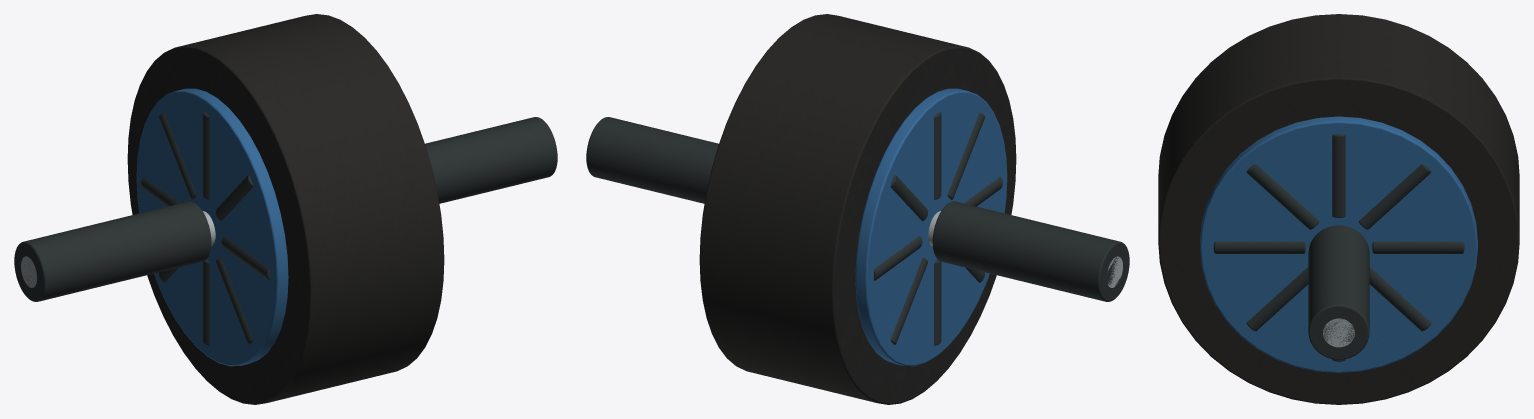
File: wheel-big.glb
3 renders of one model, left to right at view 1: azimuth 30°, elevation 25°; view 2: azimuth 150°, elevation 25°; view 3: azimuth 270°, elevation 25°, orthographic.
Parts seen in each view (by area): view 1: Exercise wheel tire, Blue exercise-wheel hub, Exercise-wheel foam grip, Exercise-wheel foam grip.001, Wheel radial spoke.002, Wheel radial spoke.005, Wheel radial spoke.001, Wheel radial spoke.006, Wheel radial spoke.004, Wheel radial spoke.003, Axle through wheel; view 2: Exercise wheel tire, Blue exercise-wheel hub, Exercise-wheel foam grip, Exercise-wheel foam grip.001, Wheel radial spoke.002, Wheel radial spoke.007, Wheel radial spoke.003, Wheel radial spoke.006, Wheel radial spoke, Wheel radial spoke.001, Axle through wheel; view 3: Exercise wheel tire, Blue exercise-wheel hub.001, Exercise-wheel foam grip.001, Wheel radial spoke.008, Wheel radial spoke.012, Wheel radial spoke.009, Wheel radial spoke.011, Wheel radial spoke.010, Wheel radial spoke.013, Wheel radial spoke.015, Axle through wheel.
Boxes of the visible parts, x1=… form: Exercise wheel tire: x1=127, y1=14, x2=444, y2=404; Blue exercise-wheel hub: x1=136, y1=88, x2=288, y2=366; Exercise-wheel foam grip: x1=14, y1=201, x2=211, y2=301; Exercise-wheel foam grip.001: x1=425, y1=117, x2=557, y2=203; Wheel radial spoke.002: x1=202, y1=112, x2=209, y2=199; Wheel radial spoke.005: x1=216, y1=257, x2=253, y2=344; Wheel radial spoke.001: x1=159, y1=112, x2=196, y2=199; Wheel radial spoke.006: x1=202, y1=259, x2=209, y2=345; Wheel radial spoke.004: x1=221, y1=236, x2=269, y2=280; Wheel radial spoke.003: x1=216, y1=175, x2=253, y2=221; Axle through wheel: x1=21, y1=211, x2=215, y2=287; Exercise wheel tire: x1=699, y1=14, x2=1016, y2=404; Blue exercise-wheel hub: x1=855, y1=88, x2=1007, y2=366; Exercise-wheel foam grip: x1=932, y1=201, x2=1129, y2=301; Exercise-wheel foam grip.001: x1=586, y1=117, x2=718, y2=203; Wheel radial spoke.002: x1=934, y1=112, x2=941, y2=199; Wheel radial spoke.007: x1=890, y1=257, x2=927, y2=344; Wheel radial spoke.003: x1=947, y1=112, x2=984, y2=199; Wheel radial spoke.006: x1=934, y1=259, x2=941, y2=345; Wheel radial spoke: x1=874, y1=236, x2=922, y2=280; Wheel radial spoke.001: x1=890, y1=175, x2=927, y2=221; Axle through wheel: x1=928, y1=211, x2=1122, y2=287; Exercise wheel tire: x1=1158, y1=14, x2=1519, y2=404; Blue exercise-wheel hub.001: x1=1200, y1=116, x2=1477, y2=372; Exercise-wheel foam grip.001: x1=1308, y1=225, x2=1369, y2=359; Wheel radial spoke.008: x1=1372, y1=241, x2=1464, y2=253; Wheel radial spoke.012: x1=1213, y1=241, x2=1305, y2=253; Wheel radial spoke.009: x1=1358, y1=164, x2=1431, y2=229; Wheel radial spoke.011: x1=1246, y1=164, x2=1319, y2=229; Wheel radial spoke.010: x1=1332, y1=134, x2=1345, y2=217; Wheel radial spoke.013: x1=1246, y1=267, x2=1308, y2=331; Wheel radial spoke.015: x1=1369, y1=267, x2=1431, y2=331; Axle through wheel: x1=1323, y1=318, x2=1354, y2=347.
Bounding box in the file's own units: 0.42 × 0.26 × 0.26.
4 materials, 4 textured.
